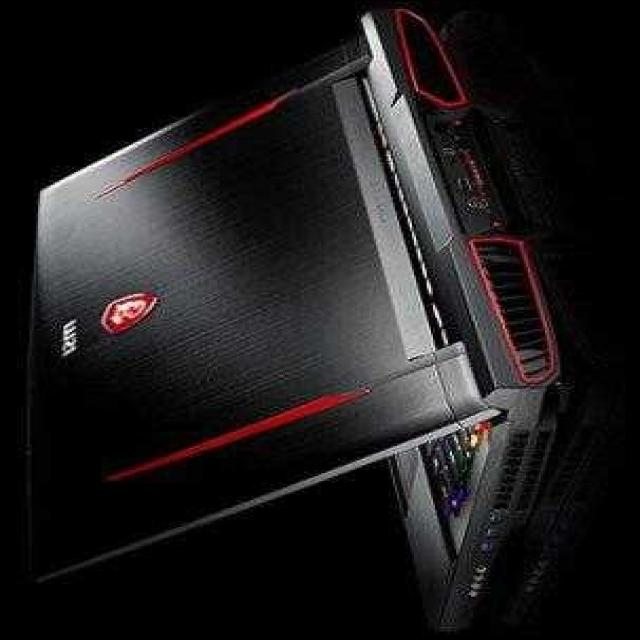laptop: (21, 8, 542, 618)
